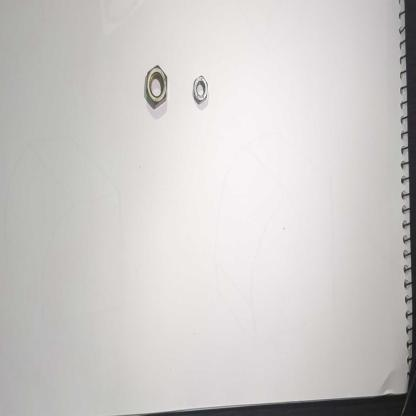NUTS: (145, 56, 171, 118), (190, 65, 212, 115)
